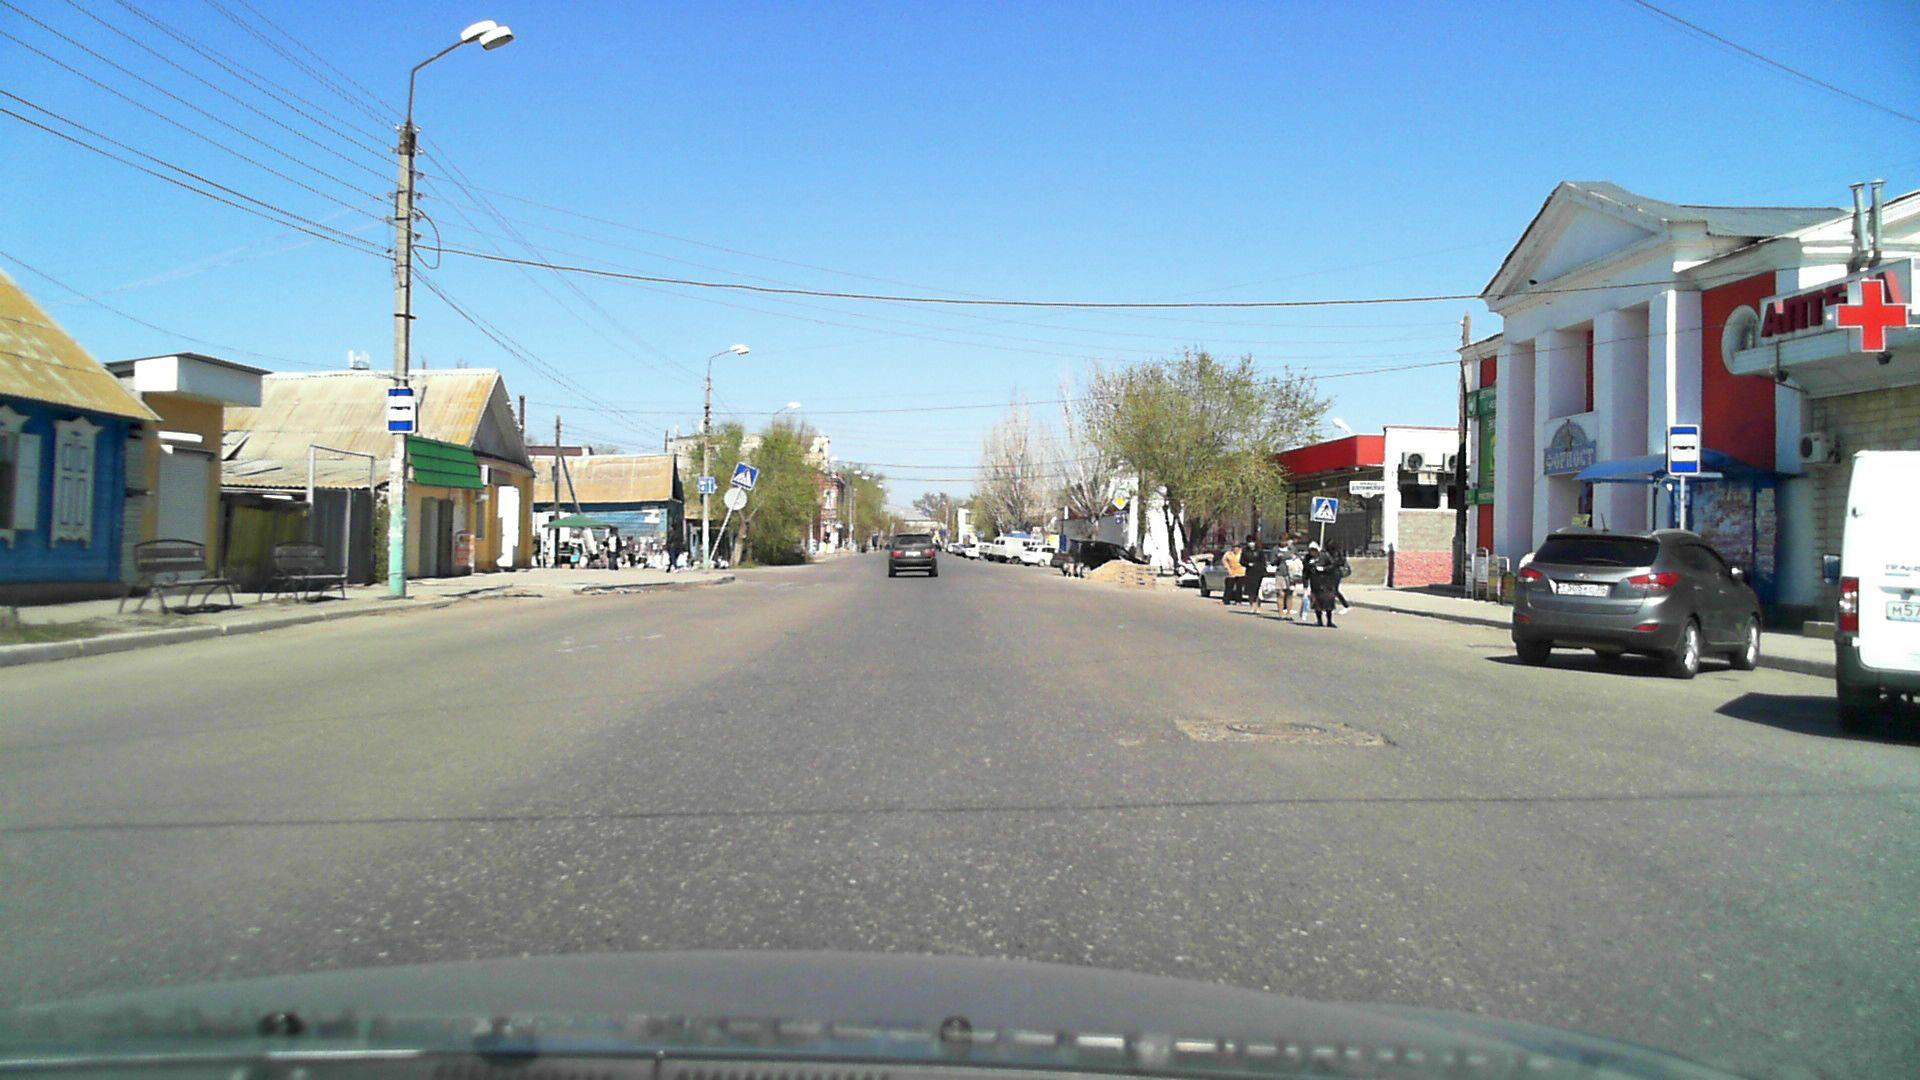2_1: (1110, 491, 1130, 509)
5_11_1: (698, 476, 717, 495), (1113, 512, 1130, 526)
5_16: (1665, 423, 1704, 484), (386, 389, 418, 434)
5_19_1: (1311, 496, 1340, 525)
5_19_2: (729, 462, 758, 489)
